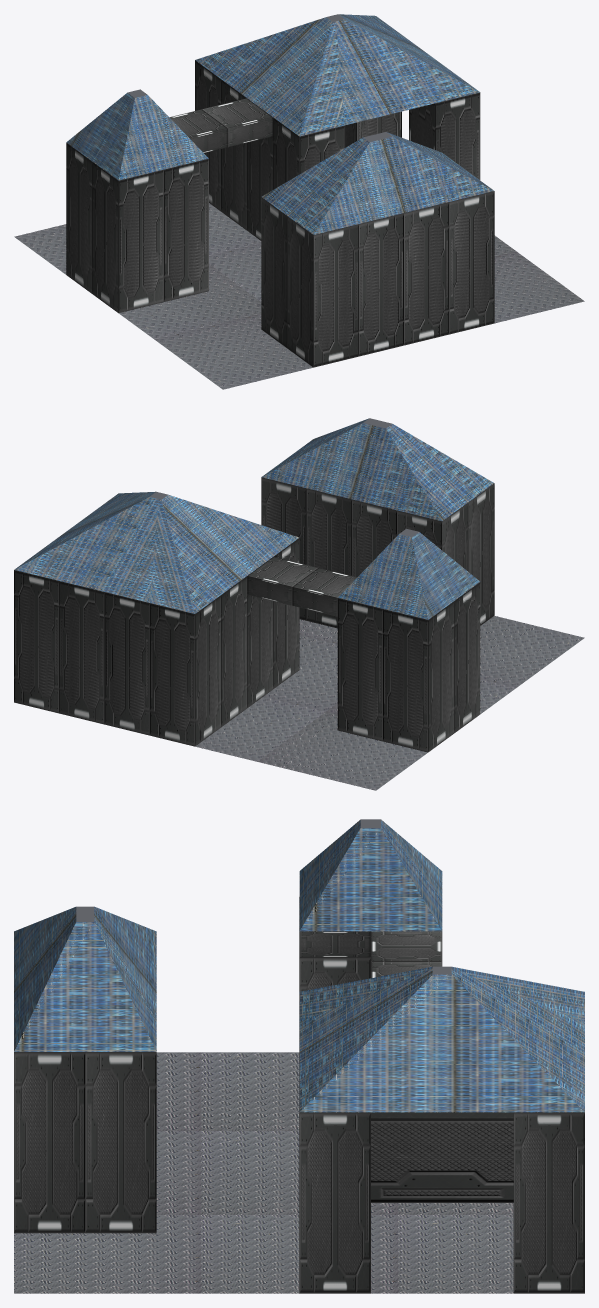
Rendered from maptileFBX.fbx.
3 views of the same model, one above another, from view 1: azimuth 30°, elevation 25°; view 2: azimuth 150°, elevation 25°; view 3: azimuth 270°, elevation 25° (orthographic). The views are drawn at different scales.
Parts seen in each view (by area): view 1: Plane; view 2: Plane; view 3: Plane.
Boxes of the visible parts, x1=… form: Plane: x1=14, y1=14, x2=584, y2=389; Plane: x1=14, y1=418, x2=584, y2=790; Plane: x1=14, y1=819, x2=584, y2=1293.
Bounding box in the file's own units: 2000 × 1009 × 2000.
